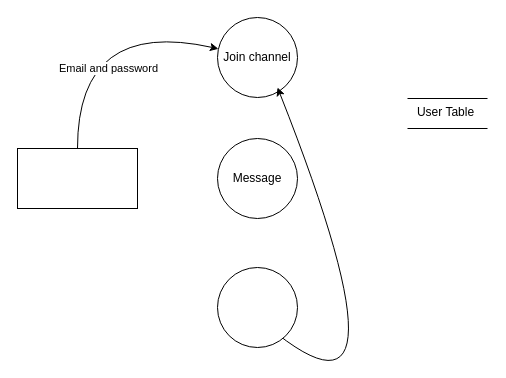
This 506x378 diagram has some shape labels left out. Here are the shapes that lost their labels. From the top down, the centre of each, then its label:
the point at 77,178: User
the point at 257,307: Manage tasks
